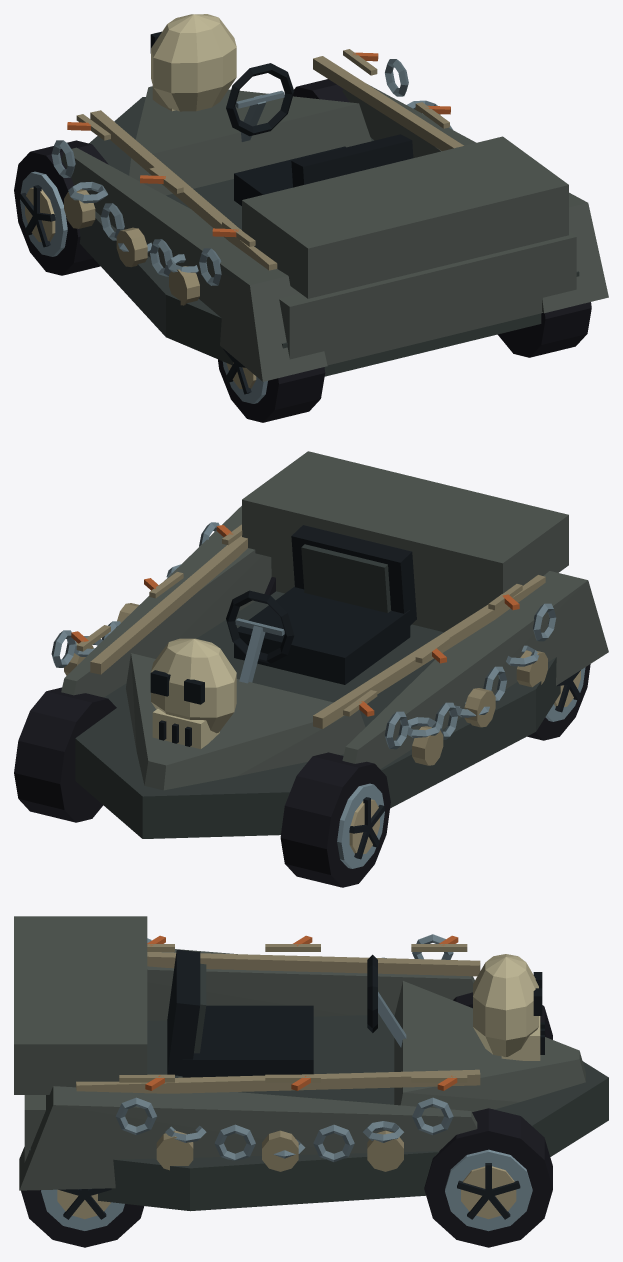
The model's file is kart.glb.
3 views of the same model, one above another, from view 1: azimuth 30°, elevation 25°; view 2: azimuth 150°, elevation 25°; view 3: azimuth 270°, elevation 25° (orthographic).
Visible parts, largest first — view 1: identity-ship-ship-pointed-bow-and-raised-stern, identity-ship-driver-cockpit, identity-ship-motif-skull, wheel-front-left, wheel-rear-left, identity-ship-motif-chains, wheel-rear-right, identity-ship-motif-runes, wheel-front-right; view 2: identity-ship-ship-pointed-bow-and-raised-stern, identity-ship-driver-cockpit, wheel-front-left, wheel-front-right, identity-ship-motif-skull, identity-ship-motif-chains, identity-ship-motif-runes, wheel-rear-left; view 3: identity-ship-ship-pointed-bow-and-raised-stern, identity-ship-driver-cockpit, wheel-front-right, identity-ship-motif-skull, wheel-rear-right, identity-ship-motif-chains, identity-ship-motif-runes.
Boxes of the visible parts, x1=… form: identity-ship-ship-pointed-bow-and-raised-stern: x1=61, y1=56, x2=608, y2=381; identity-ship-driver-cockpit: x1=226, y1=63, x2=413, y2=205; identity-ship-motif-skull: x1=150, y1=14, x2=236, y2=111; wheel-front-left: x1=14, y1=140, x2=108, y2=275; wheel-rear-left: x1=218, y1=348, x2=325, y2=422; identity-ship-motif-chains: x1=51, y1=59, x2=452, y2=285; wheel-rear-right: x1=497, y1=302, x2=591, y2=357; identity-ship-motif-runes: x1=67, y1=49, x2=450, y2=246; wheel-front-right: x1=293, y1=79, x2=349, y2=102; identity-ship-ship-pointed-bow-and-raised-stern: x1=61, y1=451, x2=608, y2=838; identity-ship-driver-cockpit: x1=226, y1=525, x2=416, y2=684; wheel-front-left: x1=280, y1=752, x2=390, y2=887; wheel-front-right: x1=14, y1=687, x2=116, y2=822; identity-ship-motif-skull: x1=150, y1=638, x2=236, y2=749; identity-ship-motif-chains: x1=51, y1=522, x2=556, y2=749; identity-ship-motif-runes: x1=71, y1=524, x2=522, y2=716; wheel-rear-left: x1=527, y1=664, x2=590, y2=740; identity-ship-ship-pointed-bow-and-raised-stern: x1=14, y1=916, x2=608, y2=1211; identity-ship-driver-cockpit: x1=167, y1=949, x2=406, y2=1077; wheel-front-right: x1=424, y1=1108, x2=552, y2=1247; identity-ship-motif-skull: x1=473, y1=954, x2=544, y2=1060; wheel-rear-right: x1=21, y1=1188, x2=144, y2=1247; identity-ship-motif-chains: x1=115, y1=934, x2=453, y2=1161; identity-ship-motif-runes: x1=119, y1=935, x2=467, y2=1090.
Bounding box in the file's own units: 2 × 1.1 × 2.77.
